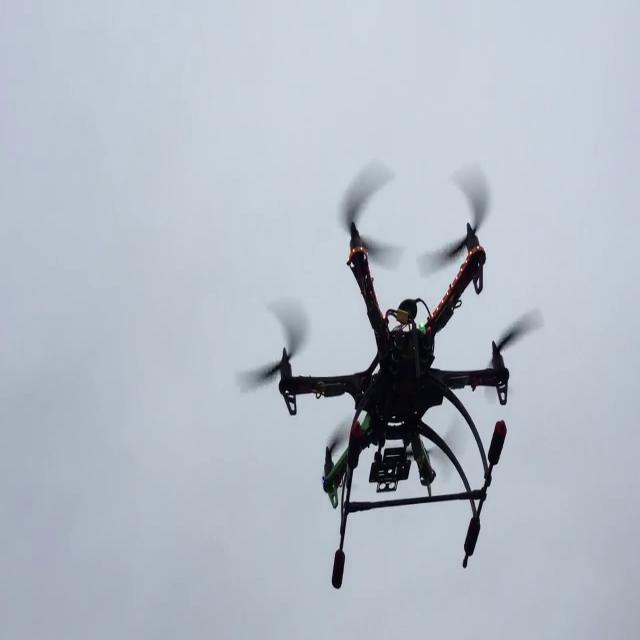drone: (246, 145, 527, 588)
